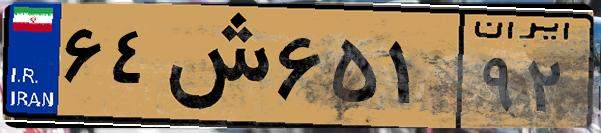1: (385, 28, 445, 110)
2: (525, 38, 570, 115)
4: (110, 28, 158, 98)
5: (330, 28, 385, 110)
6: (270, 28, 330, 110), (57, 26, 110, 100)
9: (475, 38, 525, 113)
ش: (158, 12, 270, 120)
